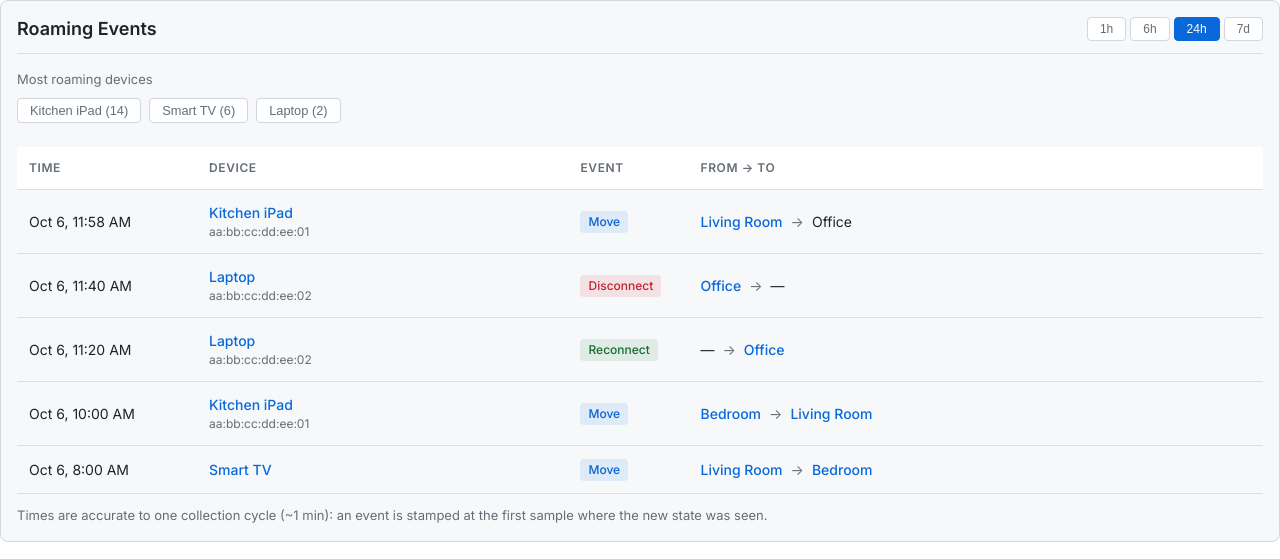
RoamingEventsCard › hides the top-roamers strip on a range change while filtered, and restores it on Clear
Expected: the text "Most roaming devices" is shown, [17,71,153,87]
Step 1. Click the button "Kitchen iPad (14)" → (79, 110), box [17,98,141,122]
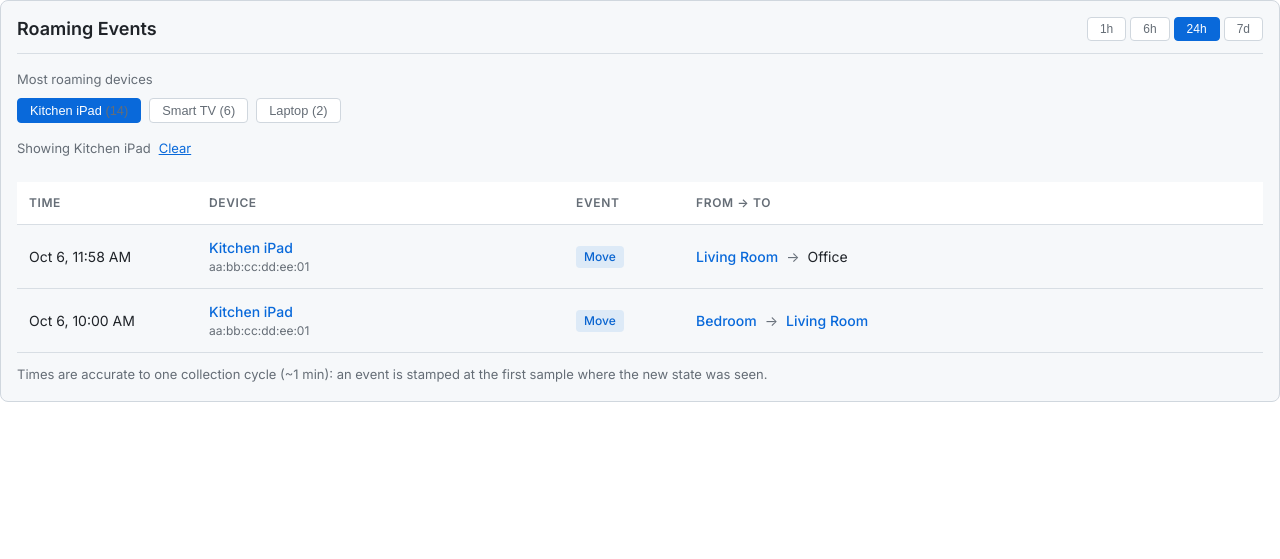
Now the text "Showing Kitchen iPad Clear" is shown, box [17,138,191,158]
Step 2. Click the button "7d" → (1243, 29), box [1224,17,1263,41]
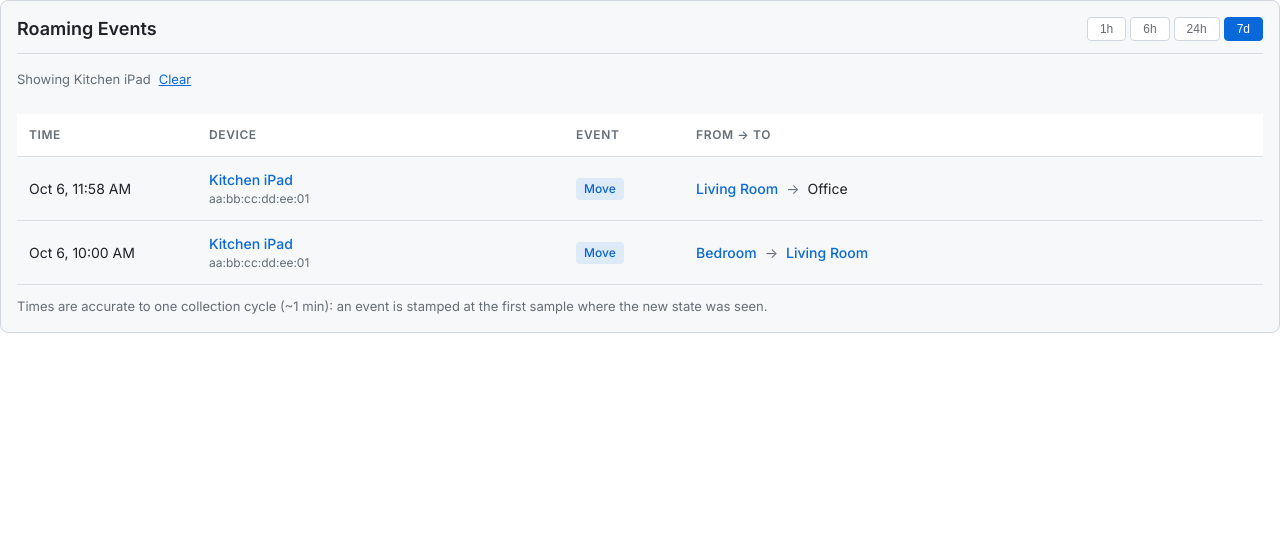
Now the text "Showing Kitchen iPad Clear" is shown, box [17,70,191,90]
Now the button "Clear" is shown
Now the text "Most roaming devices" is gone
Step 3. Click the button "Clear" → (175, 80), box [159,70,191,90]
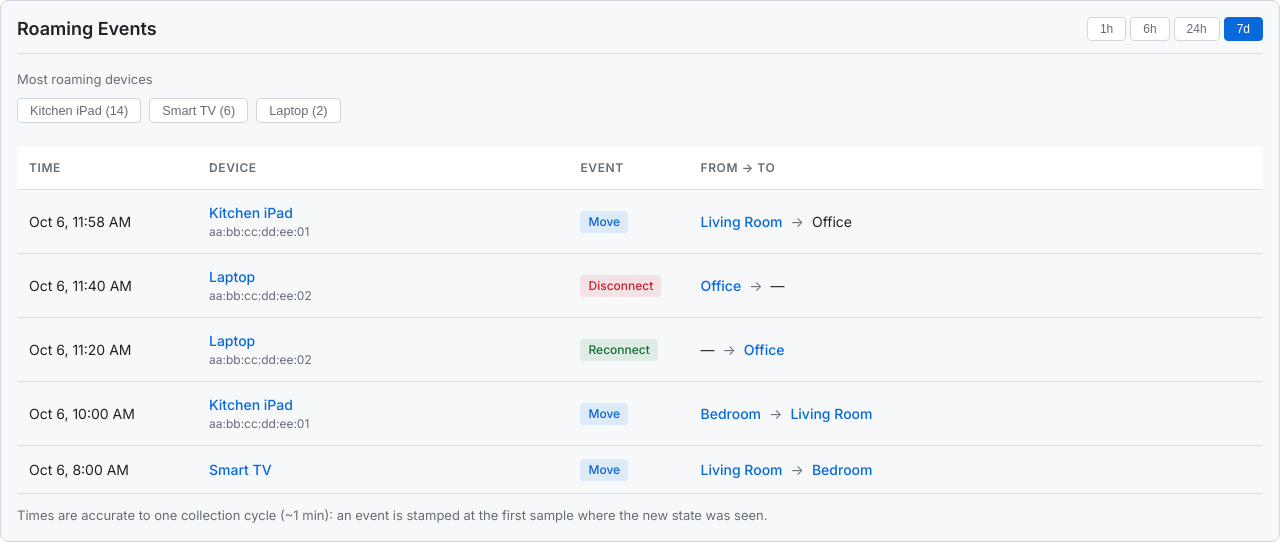
Now the text "Most roaming devices" is shown, box [17,71,153,87]
Now the text "Showing Kitchen iPad" is gone
